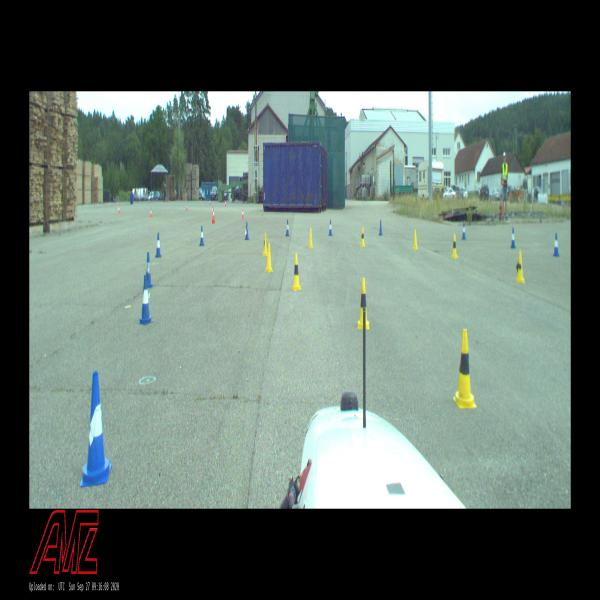blue_cone: (80, 371, 112, 485), (138, 275, 153, 324), (146, 252, 152, 288), (554, 234, 560, 256), (156, 233, 161, 257), (510, 228, 515, 248), (200, 226, 204, 245), (245, 222, 249, 240), (462, 222, 466, 239), (286, 220, 290, 236), (328, 221, 332, 236), (379, 220, 383, 235)
orange_cone: (212, 208, 215, 224), (211, 205, 214, 214), (242, 209, 244, 219), (150, 209, 152, 218), (118, 205, 120, 214), (186, 203, 188, 210), (209, 199, 211, 205), (225, 200, 226, 207)
yellow_cone: (454, 330, 476, 408), (358, 279, 369, 328), (292, 254, 301, 290), (516, 252, 524, 284), (266, 243, 273, 271), (262, 232, 268, 256), (452, 234, 457, 258), (412, 230, 418, 249), (308, 227, 313, 248), (361, 227, 365, 246)
